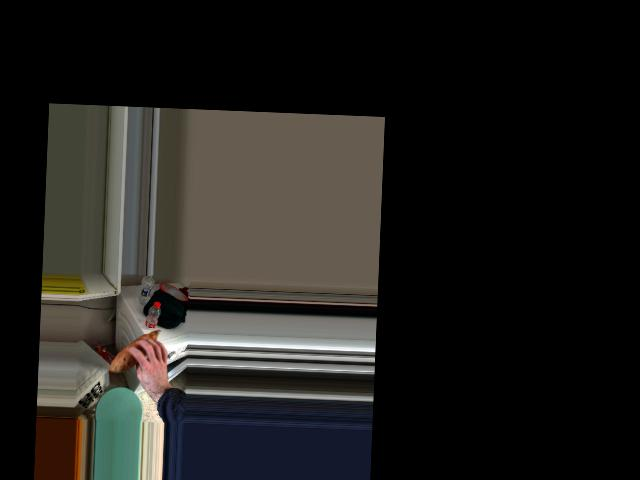sweet_potato: (112, 329, 163, 373)
